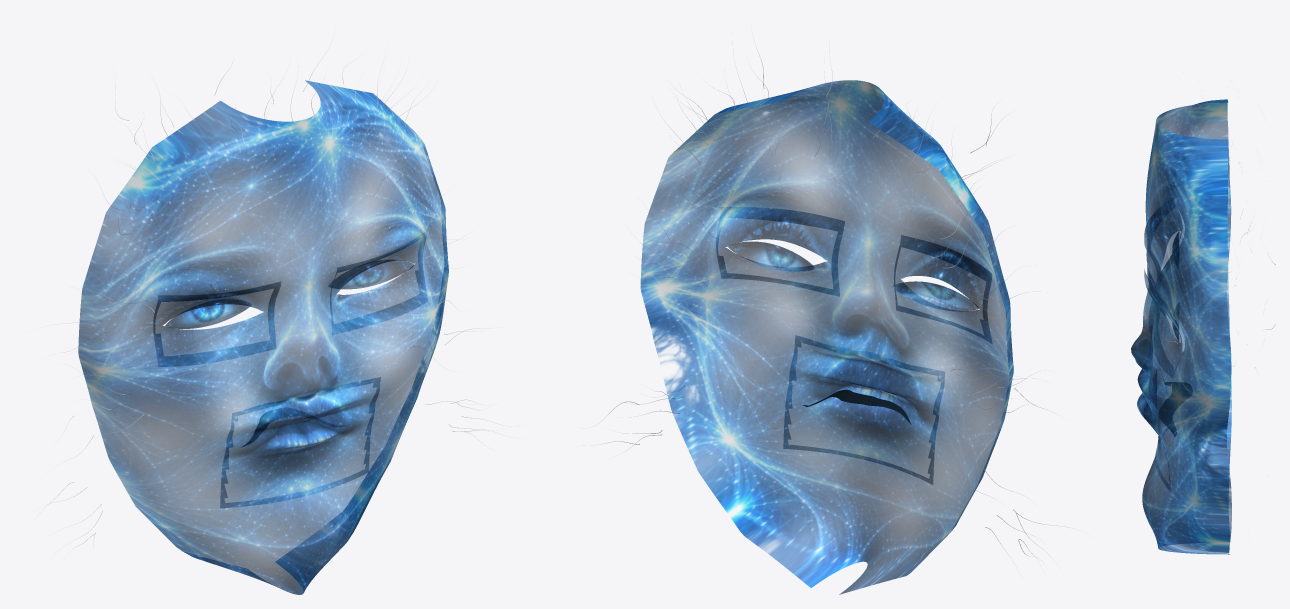
File: reference-mask.glb
3 views of the same model, side by side, from view 1: azimuth 30°, elevation 25°; view 2: azimuth 150°, elevation 25°; view 3: azimuth 270°, elevation 25° (orthographic). The views are drawn at different scales.
Parts seen in each view (by area): view 1: Reference002Mask; view 2: Reference002Mask; view 3: Reference002Mask.
Part boxes in pixels (bbox=[...]): Reference002Mask: bbox=[46, 50, 507, 594]; Reference002Mask: bbox=[598, 50, 1068, 594]; Reference002Mask: bbox=[1131, 99, 1275, 554].
Size of the model in its own units: 0.2953 by 0.2982 by 0.0824.
Materials: 4 (2 with a texture image).
